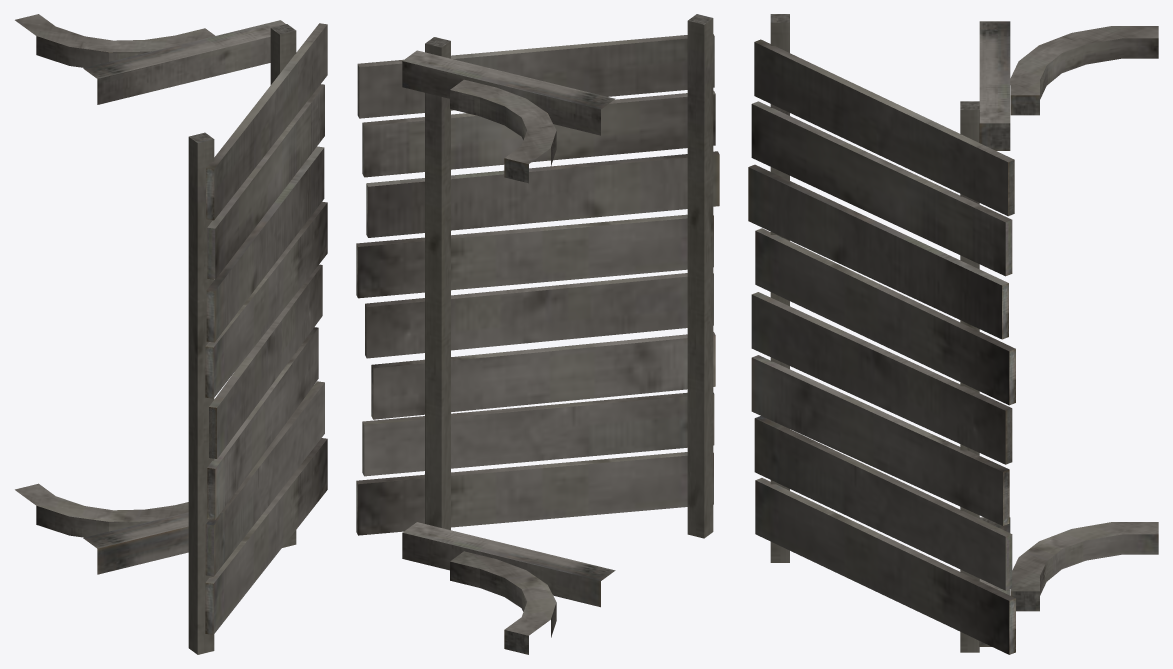
File: awning_desert_wood4.glb
3 renders of one model, left to right at view 1: azimuth 30°, elevation 25°; view 2: azimuth 150°, elevation 25°; view 3: azimuth 270°, elevation 25°, orthographic. The views are drawn at different scales.
Bounding box in the file's own units: 30.71 × 61.74 × 42.31.
Materials: 1 (1 with a texture image).
